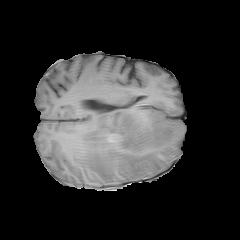glioma: (72, 110, 178, 184)
